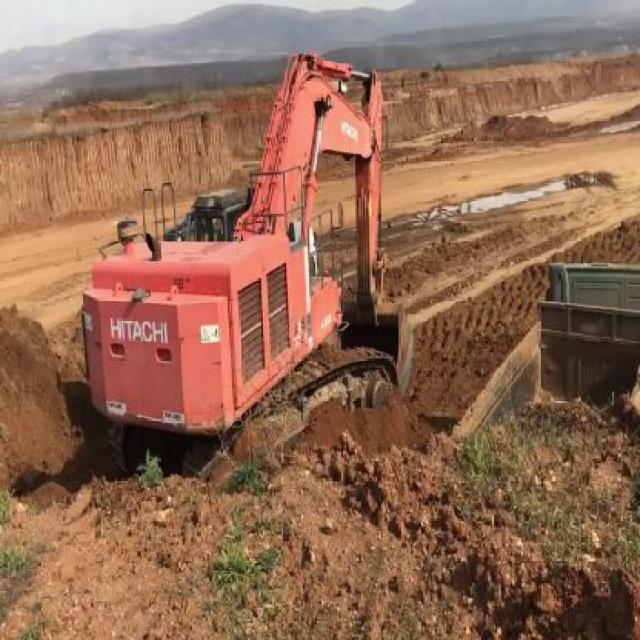Dump Truck: (452, 260, 639, 443)
Excavator: (81, 52, 413, 496)
